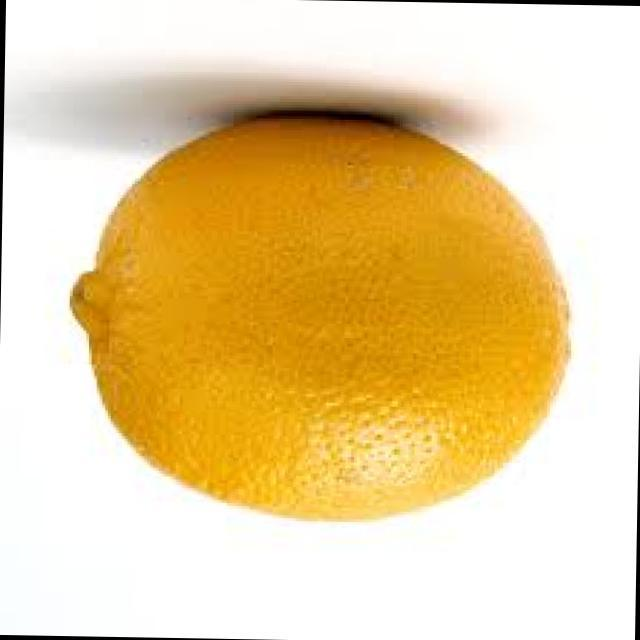Lemon: (48, 74, 606, 552)
